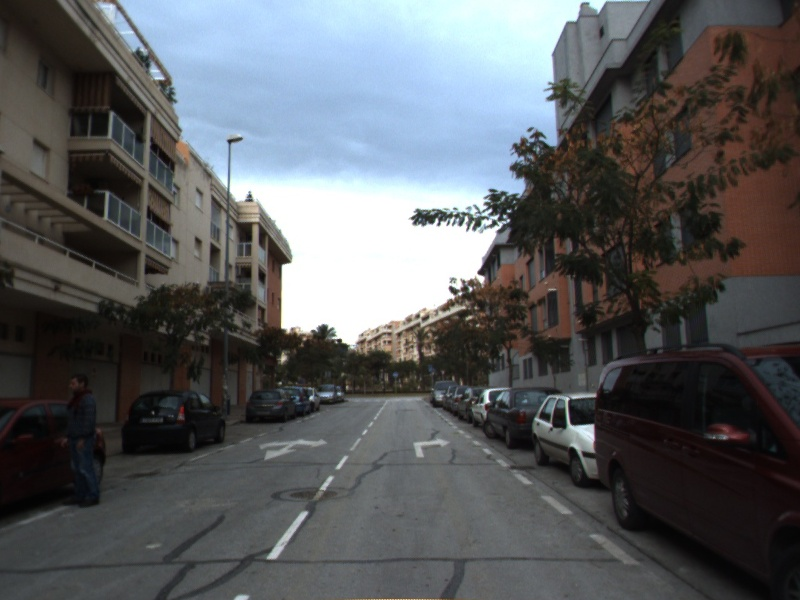RIGHT: (412, 435, 452, 459)
